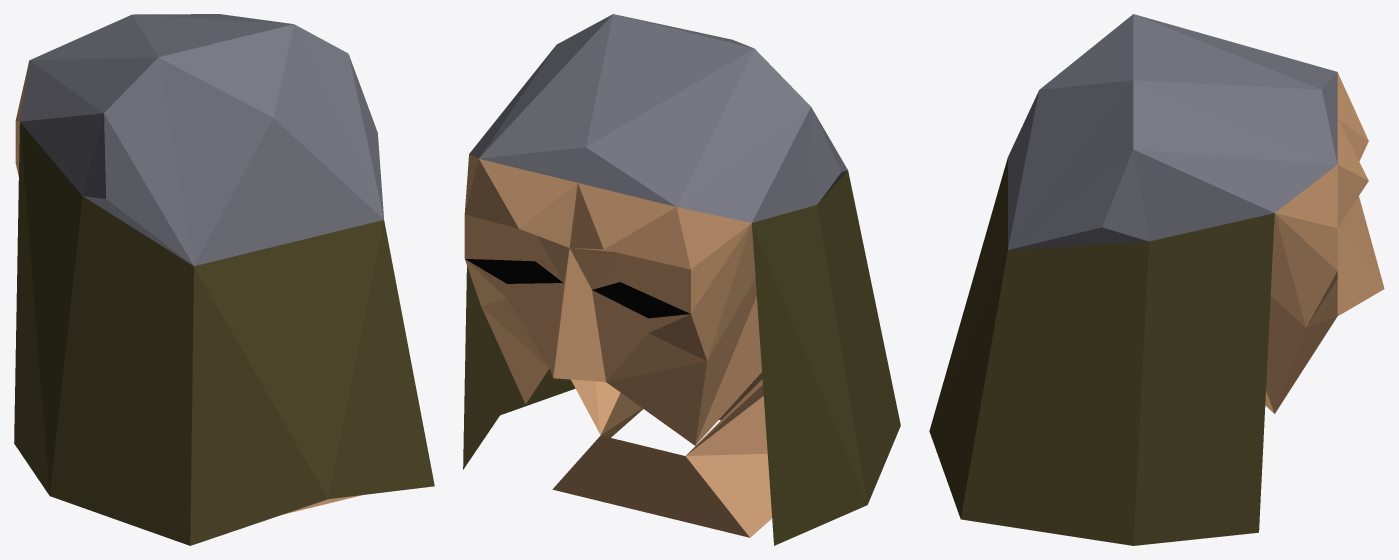
The model's file is npc_world_tower_archer_4_0.obj.
3 renders of one model, left to right at view 1: azimuth 30°, elevation 25°; view 2: azimuth 150°, elevation 25°; view 3: azimuth 270°, elevation 25°, orthographic. The views are drawn at different scales.
Size of the model in its own units: 0.2031 by 0.2422 by 0.2266.
